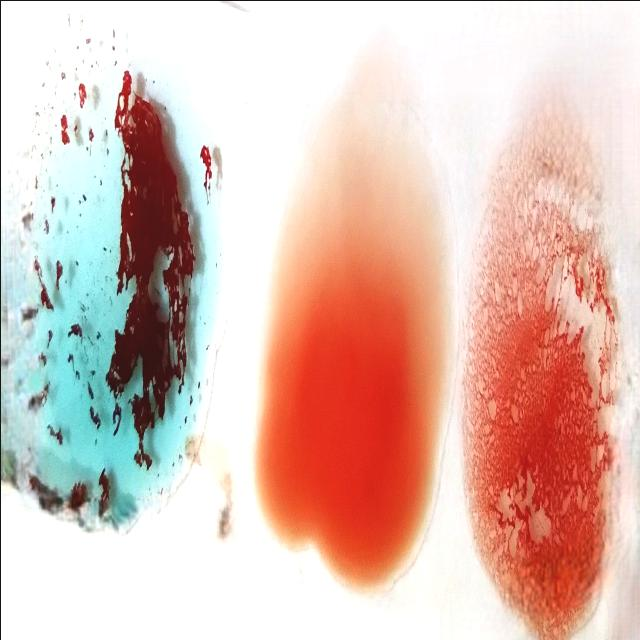A: (16, 0, 231, 533)
D: (464, 155, 616, 640)
